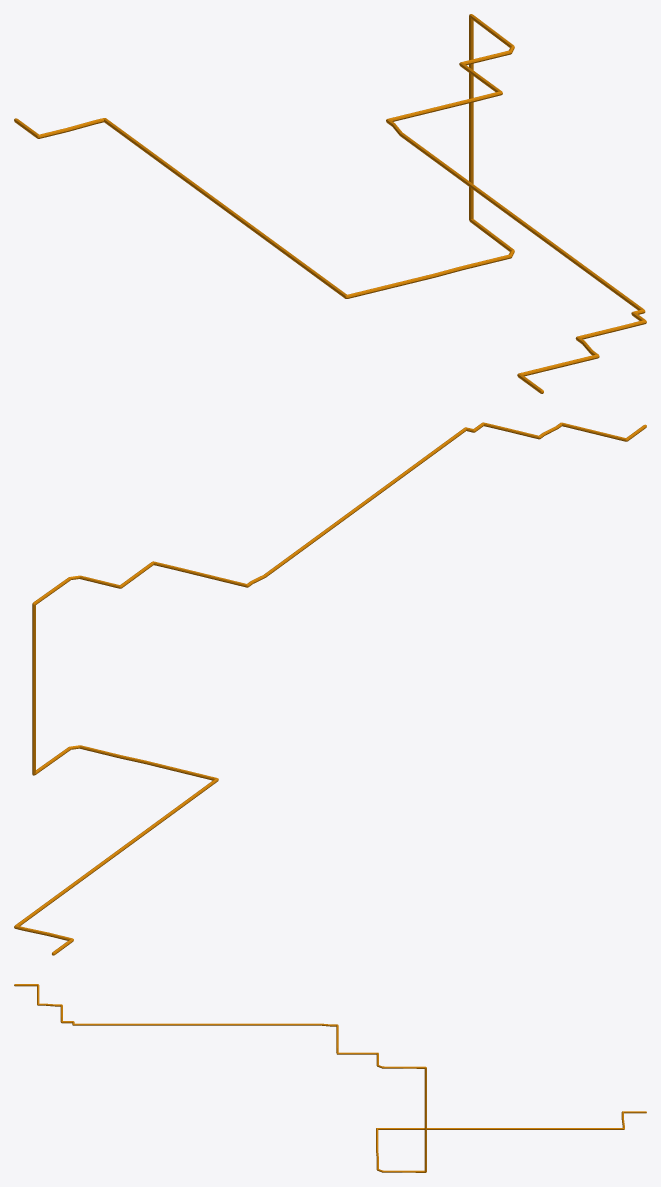
The picture shows the model from 3 angles, top to bottom: view 1: azimuth 30°, elevation 25°; view 2: azimuth 150°, elevation 25°; view 3: azimuth 270°, elevation 25°; orthographic projection. The views are drawn at different scales.
Size of the model in its own units: 1723 by 1020 by 5516.
